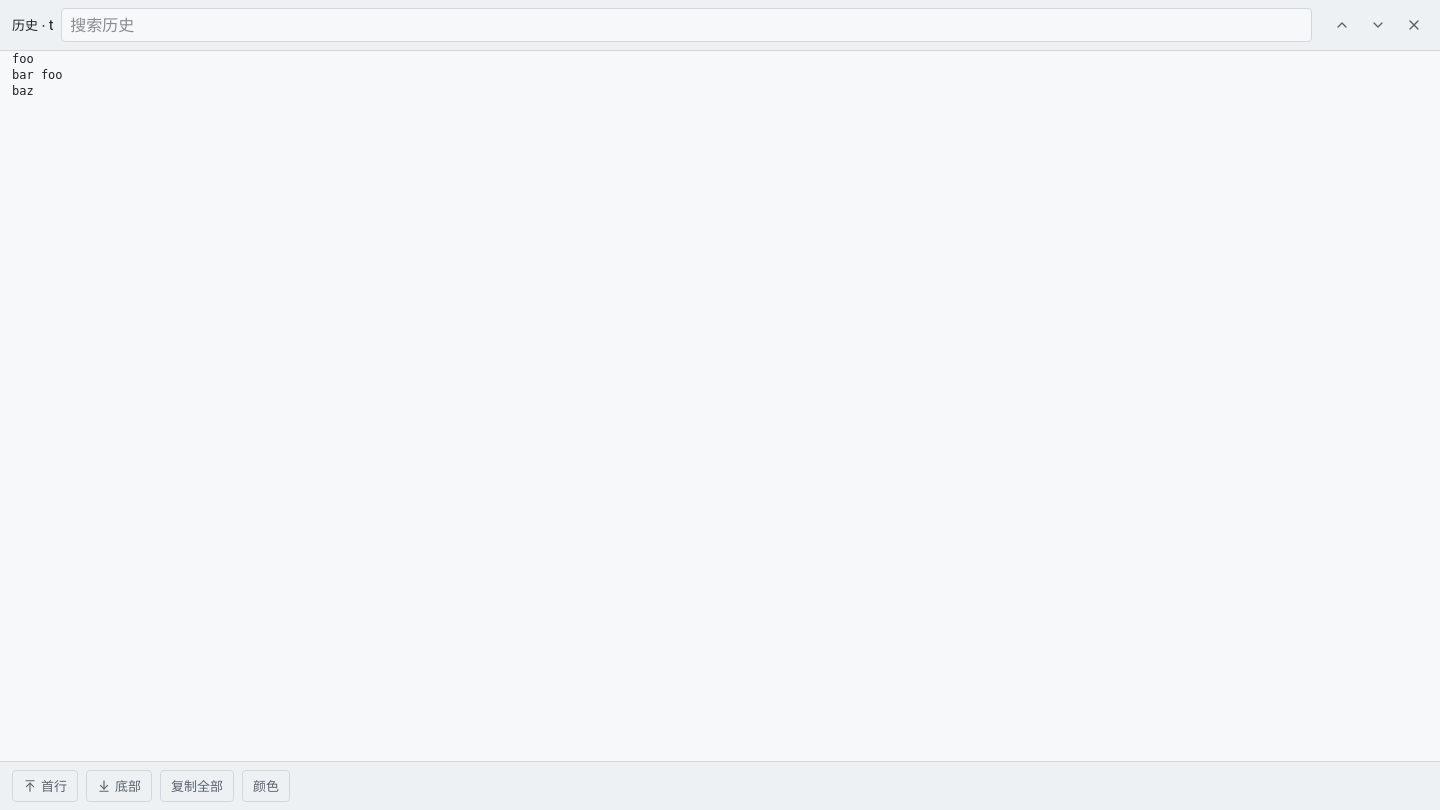
HistoryView › search box highlights and steps through matches
Check: the text "foo bar foo baz" is shown, box top-left (12, 52), bottom-right (63, 98)
Type "foo" into the field with placeholder "搜索历史" at (687, 25), box top-left (61, 8), bottom-right (1312, 42)
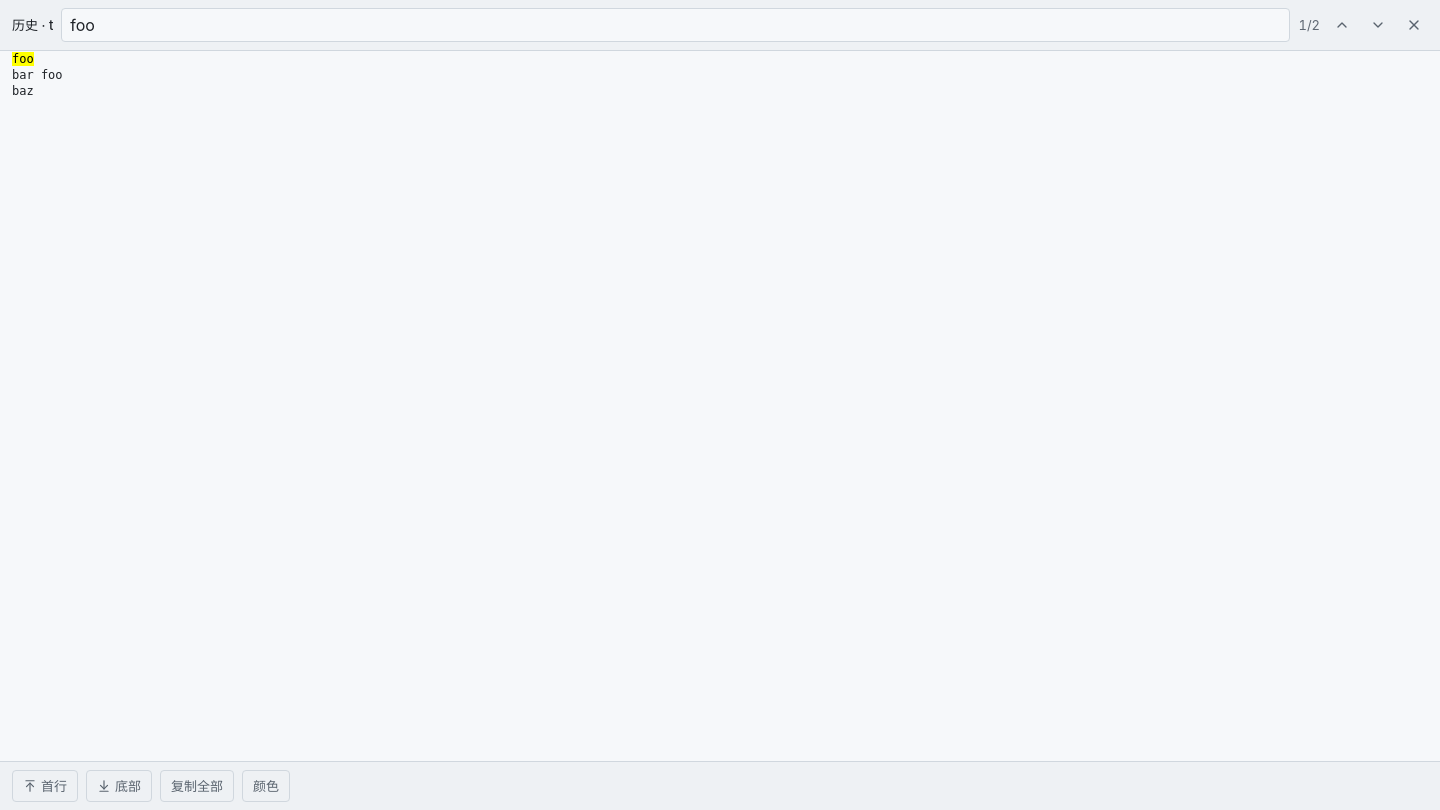
Check: the text "1/2" is shown, box top-left (1298, 16), bottom-right (1320, 34)
Click the button named "下一个" at (1378, 25), box top-left (1364, 11), bottom-right (1392, 39)
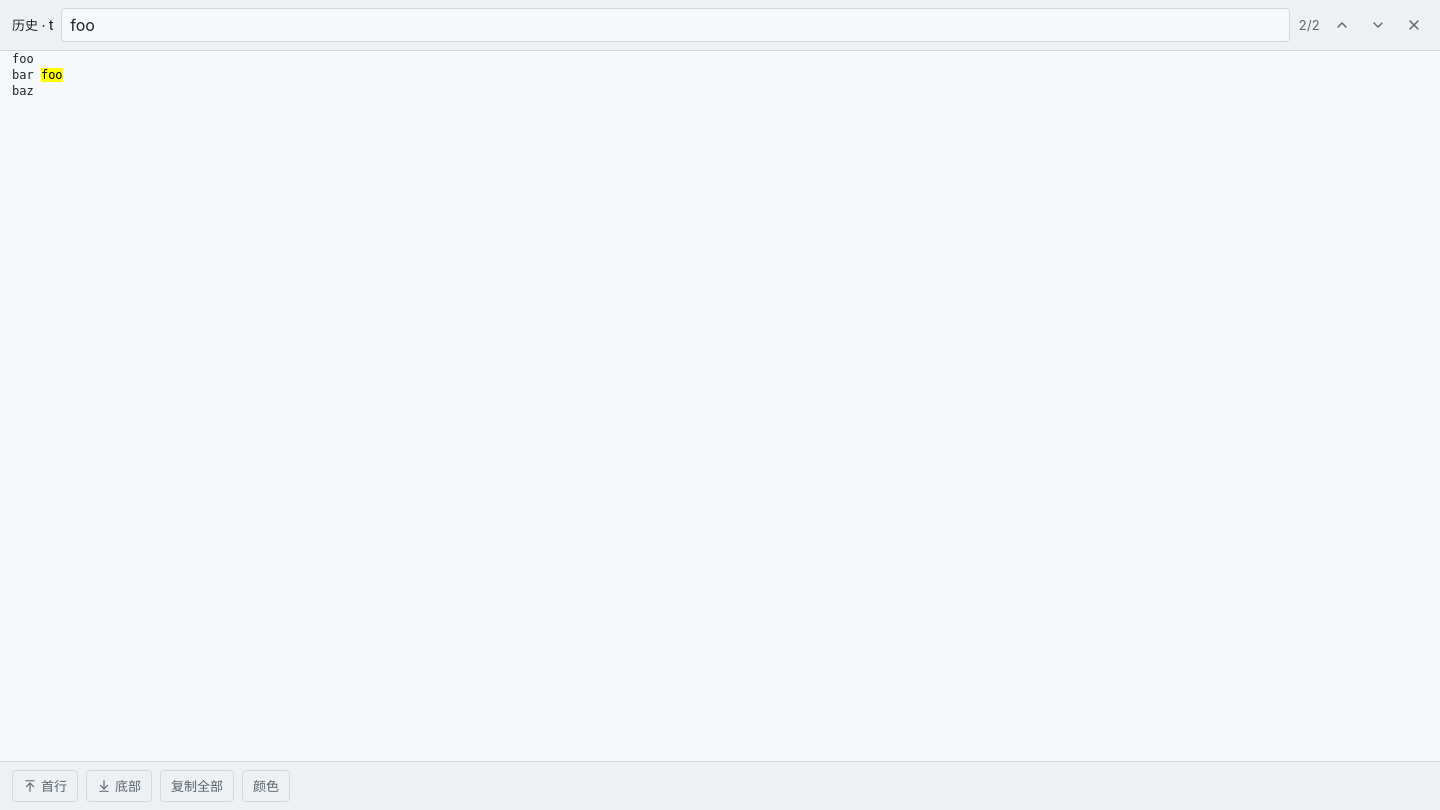
Check: the text "2/2" is shown, box top-left (1298, 16), bottom-right (1320, 34)
